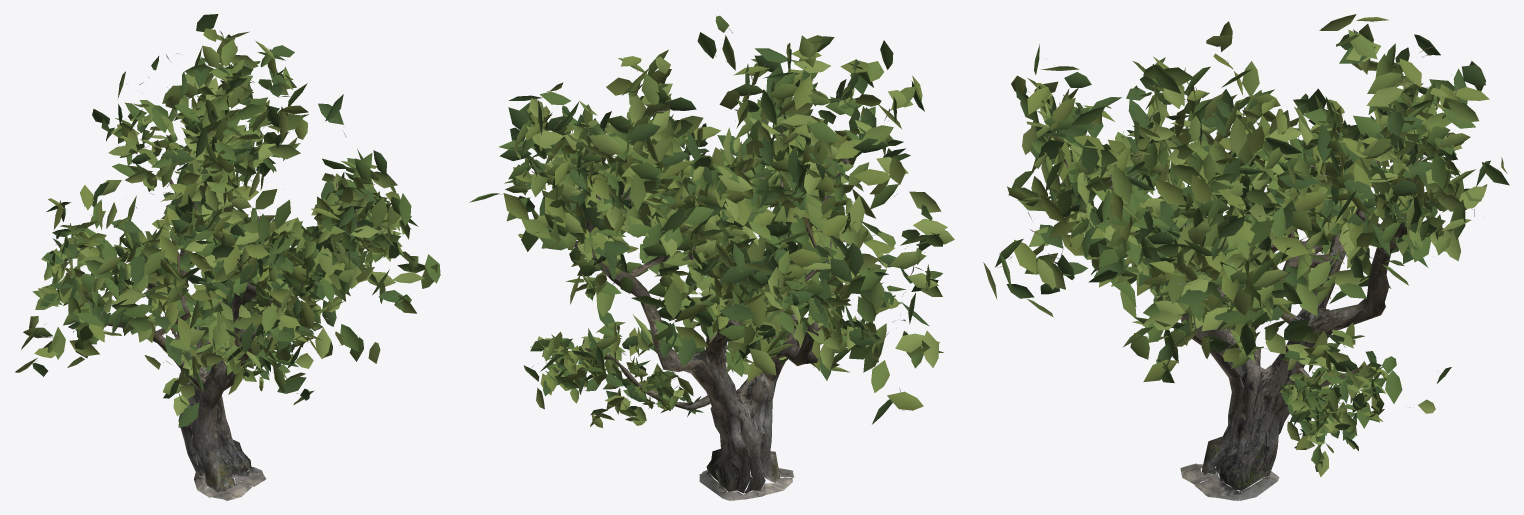
File: island_tree_full_leaves.glb
The picture shows the model from 3 angles, left to right: view 1: azimuth 30°, elevation 25°; view 2: azimuth 150°, elevation 25°; view 3: azimuth 270°, elevation 25°; orthographic projection. The views are drawn at different scales.
Parts seen in each view (by area): view 1: Complete_leaf_canopy_2200, island_tree_01_LOD0.001, island_tree_01_LOD0; view 2: Complete_leaf_canopy_2200, island_tree_01_LOD0.001, island_tree_01_LOD0; view 3: Complete_leaf_canopy_2200, island_tree_01_LOD0.001, island_tree_01_LOD0.
Boxes of the visible parts, x1=… form: Complete_leaf_canopy_2200: x1=15, y1=14, x2=440, y2=427; island_tree_01_LOD0.001: x1=66, y1=179, x2=305, y2=500; island_tree_01_LOD0: x1=33, y1=30, x2=424, y2=400; Complete_leaf_canopy_2200: x1=469, y1=15, x2=954, y2=427; island_tree_01_LOD0.001: x1=574, y1=131, x2=849, y2=500; island_tree_01_LOD0: x1=496, y1=28, x2=925, y2=420; Complete_leaf_canopy_2200: x1=983, y1=14, x2=1509, y2=476; island_tree_01_LOD0.001: x1=1110, y1=151, x2=1417, y2=500; island_tree_01_LOD0: x1=997, y1=22, x2=1498, y2=445.
Size of the model in its own units: 4.77 by 4.93 by 4.8.
3 materials, 2 textured.
